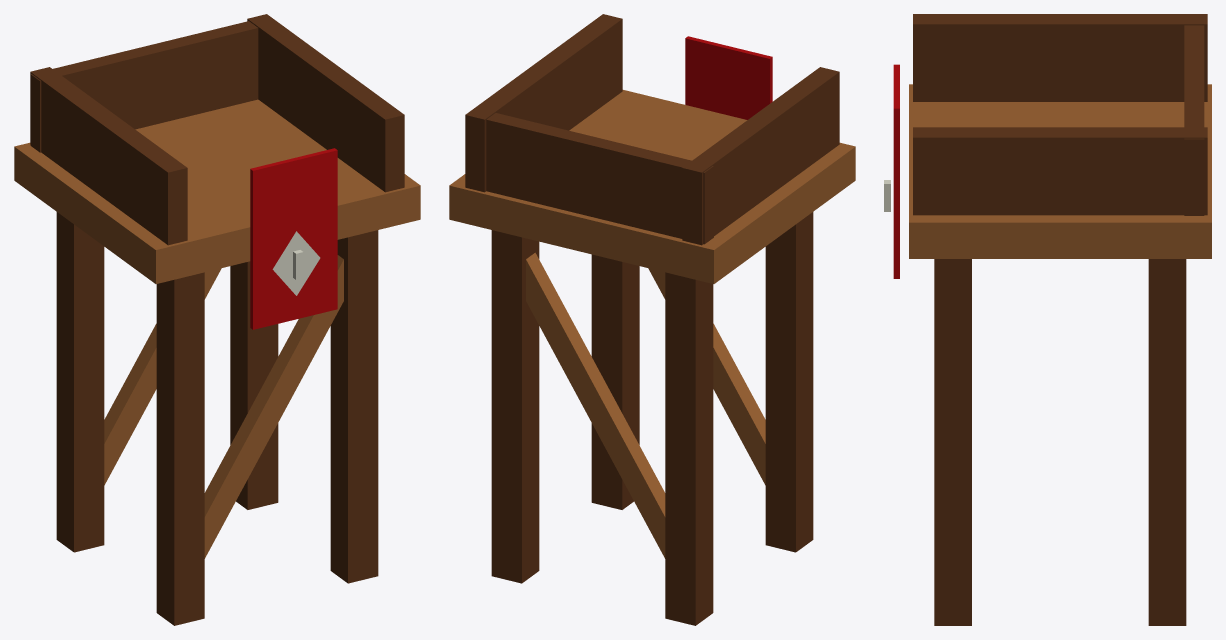
File: enemy_watchtower.fbx
The picture shows the model from 3 angles, left to right: view 1: azimuth 30°, elevation 25°; view 2: azimuth 150°, elevation 25°; view 3: azimuth 270°, elevation 25°; orthographic projection. The views are drawn at different scales.
Parts seen in each view (by area): view 1: enemy_watchtower; view 2: enemy_watchtower; view 3: enemy_watchtower.
Part boxes in pixels (bbox=[...]): enemy_watchtower: bbox=[14, 14, 420, 625]; enemy_watchtower: bbox=[449, 14, 855, 625]; enemy_watchtower: bbox=[884, 14, 1211, 625].
Bounding box in the file's own units: 1.22 × 2.05 × 1.22.
